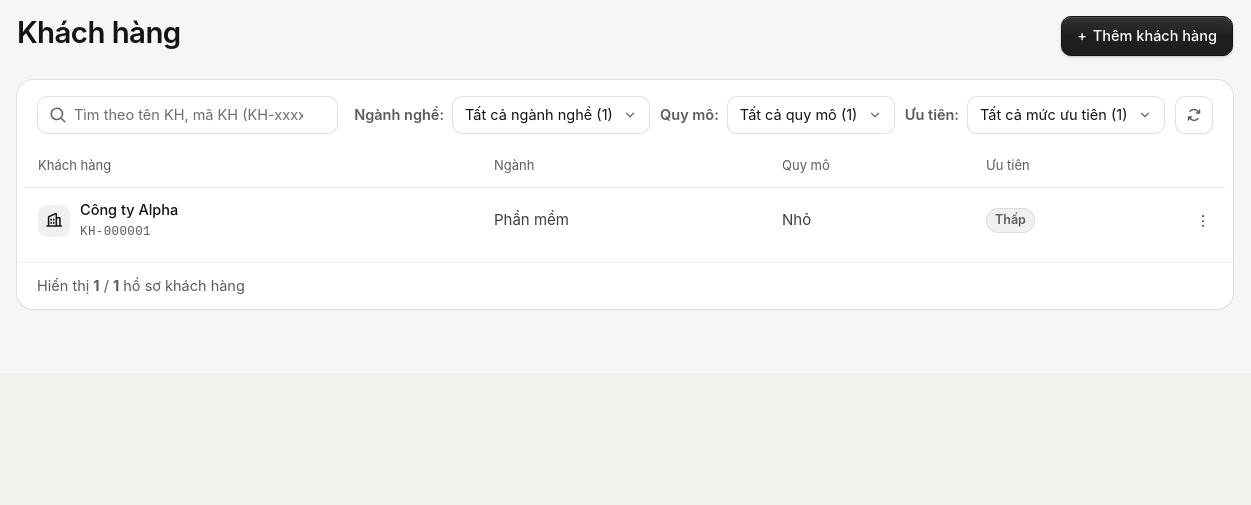
Test case: Phân nhóm khách hàng theo ngành và quy mô (NCL-02-CN-005) › NCL-02-CN-005-TC-02: Dữ liệu rỗng (Không có khách hàng thuộc nhóm được lọc) › lọc theo nhóm không tồn tại -> hệ thống báo không có kết quả phù hợp
Select "Nhỏ" in the dropdown labelled "Quy mô:" at (811, 115), box [727,96,895,134]
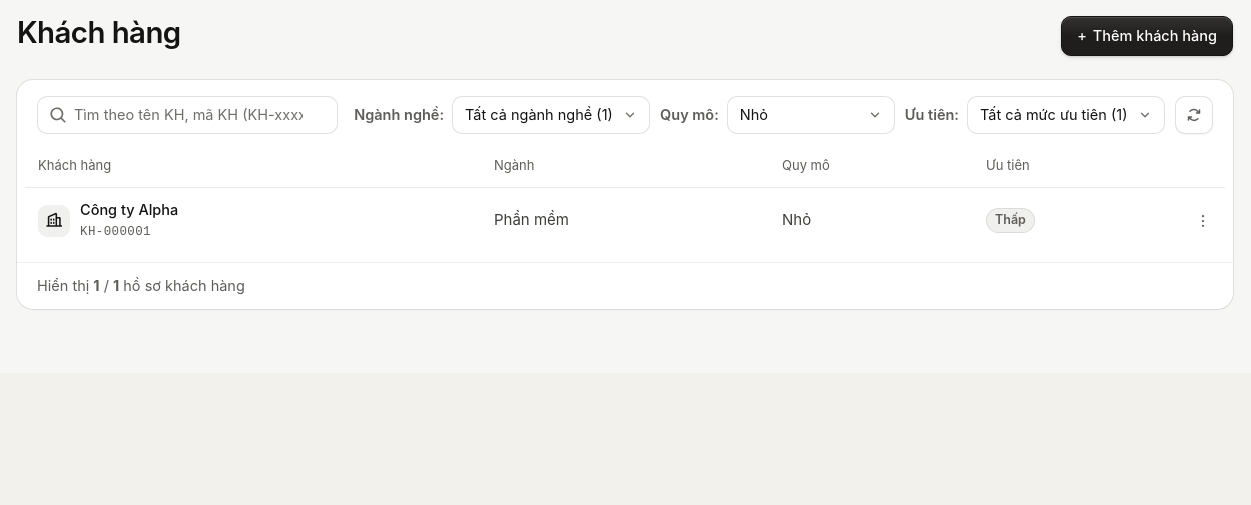
Select "Thấp" in the dropdown labelled "Ưu tiên:" at (1066, 115), box [967,96,1165,134]
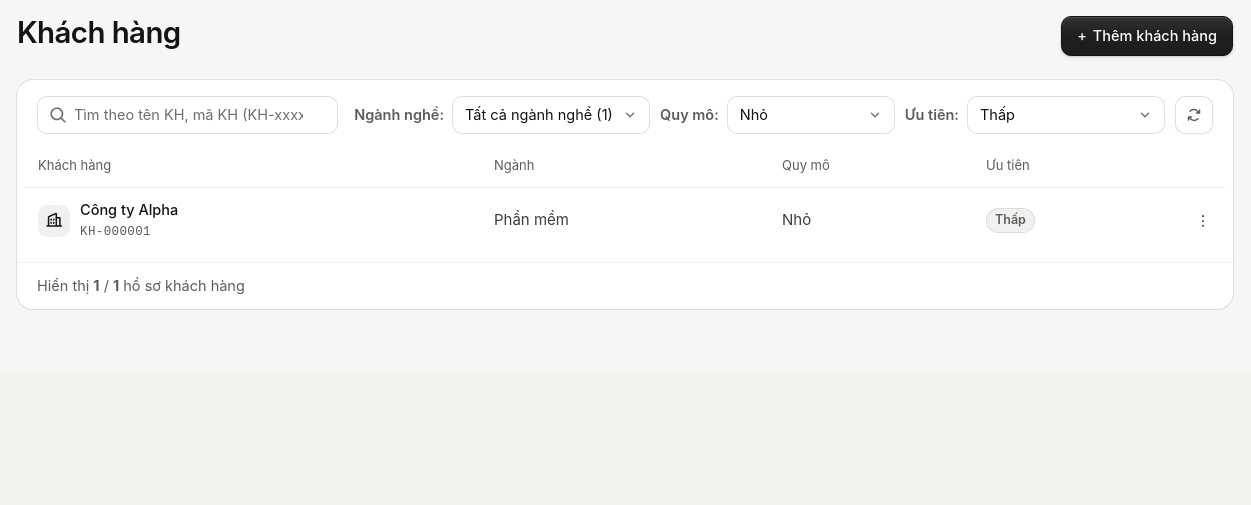
Select "Phần mềm" in the dropdown labelled "Ngành nghề:" at (551, 115), box [452,96,650,134]
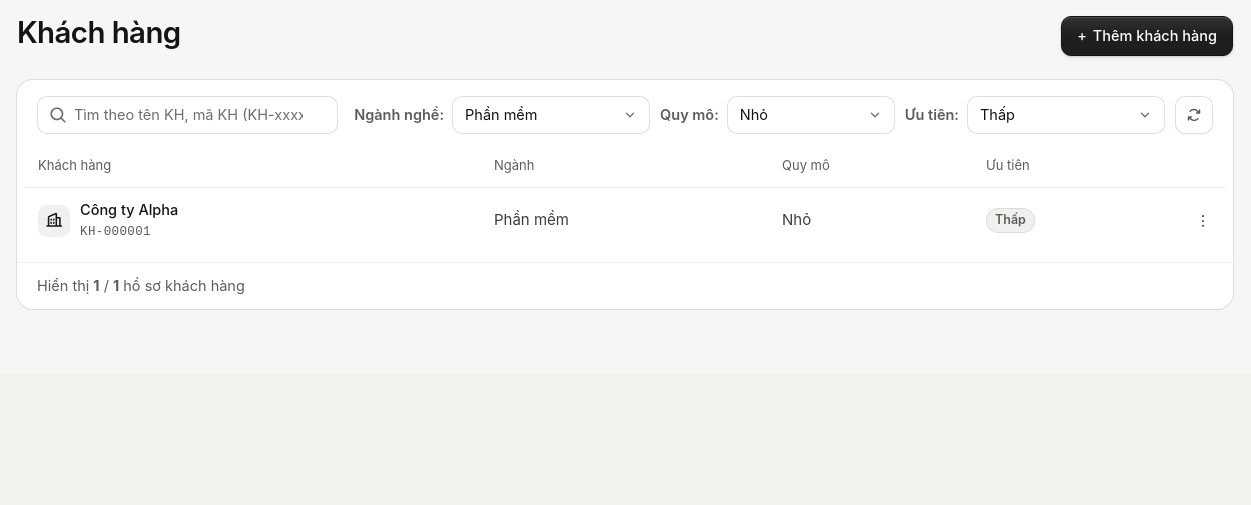
(Vẫn còn khớp — thử tìm kiếm từ khóa không tồn tại để chắc chắn rỗng)
Type "Không tồn tại XYZ" into the field with placeholder "Tìm theo tên KH, mã KH (KH-xxxxxx), MST, SĐT..." at (188, 115), box [37,96,338,134]
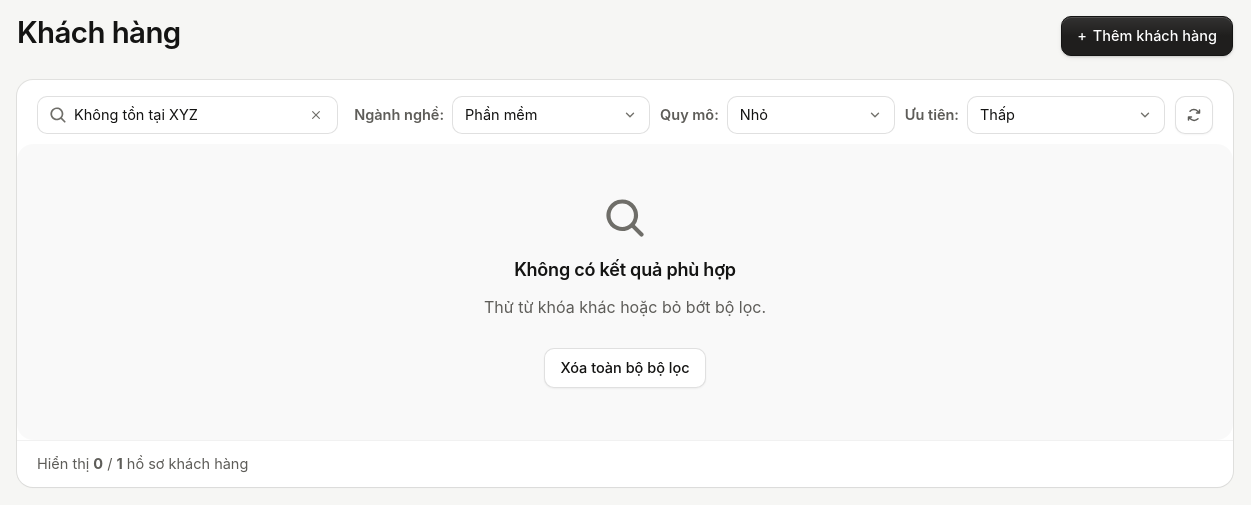
Check: the element with test id "segment-filter-empty-state" is shown, box [17,144,1233,440]
Check: the heading "Không có kết quả phù hợp" is shown, box [514,256,736,283]
Check: the button "Công ty Alpha" is gone
Click the button with test id "btn-clear-segment-filters" at (625, 368), box [544,348,706,388]
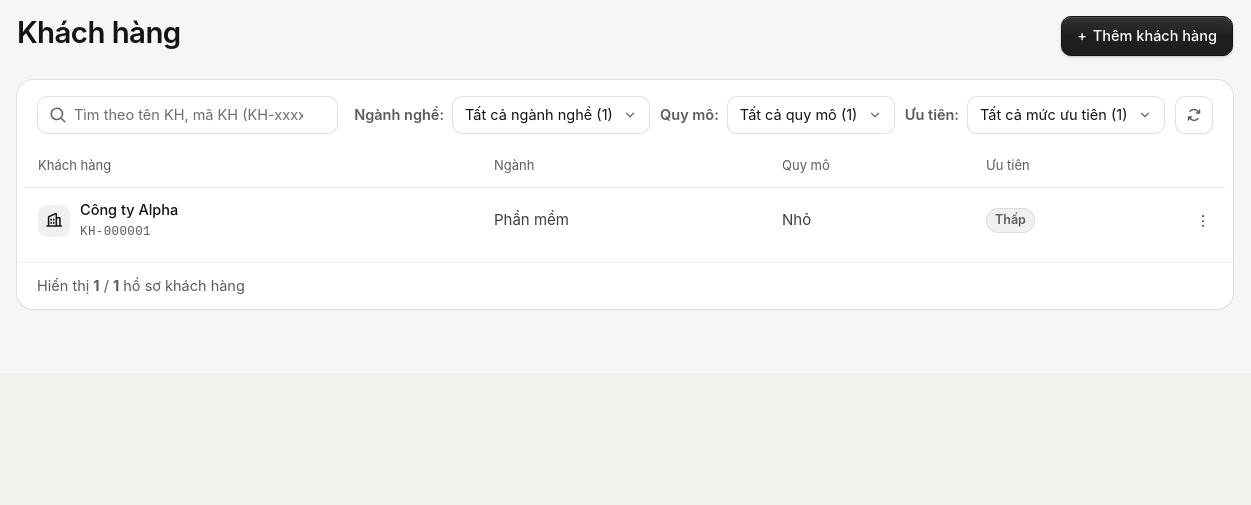
Check: the button "Công ty Alpha" is shown, box [80,199,178,221]
Check: the element with test id "segment-filter-empty-state" is gone
